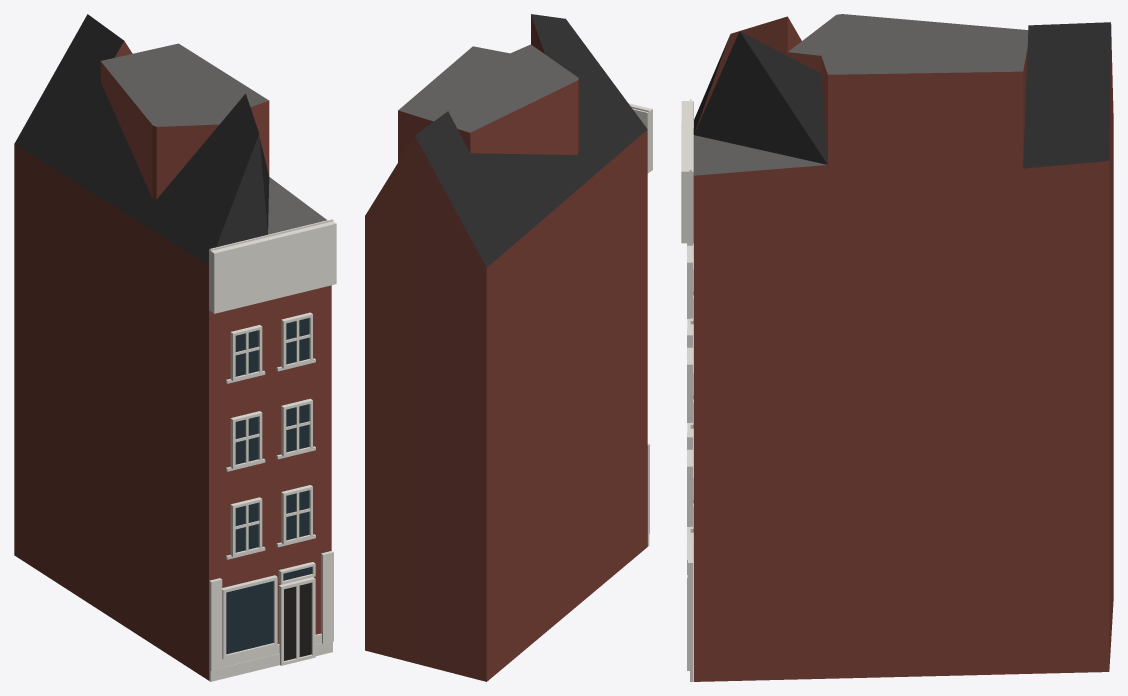
3 views of the same model, side by side, from view 1: azimuth 30°, elevation 25°; view 2: azimuth 150°, elevation 25°; view 3: azimuth 270°, elevation 25° (orthographic). The views are drawn at different scales.
Parts seen in each view (by area): view 1: spec-0363100012178200; view 2: spec-0363100012178200; view 3: spec-0363100012178200.
Boxes of the visible parts, <box> form: spec-0363100012178200: <box>14,14,336,681</box>; spec-0363100012178200: <box>365,14,652,681</box>; spec-0363100012178200: <box>681,14,1113,681</box>.
Bounding box in the file's own units: 3.88 × 14.3 × 8.77.
